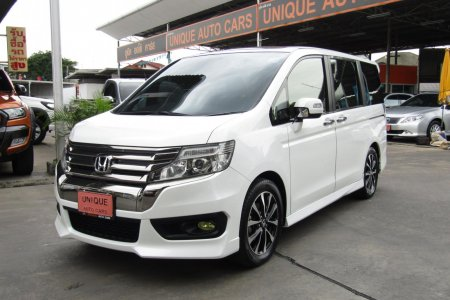van: (52, 44, 389, 266)
